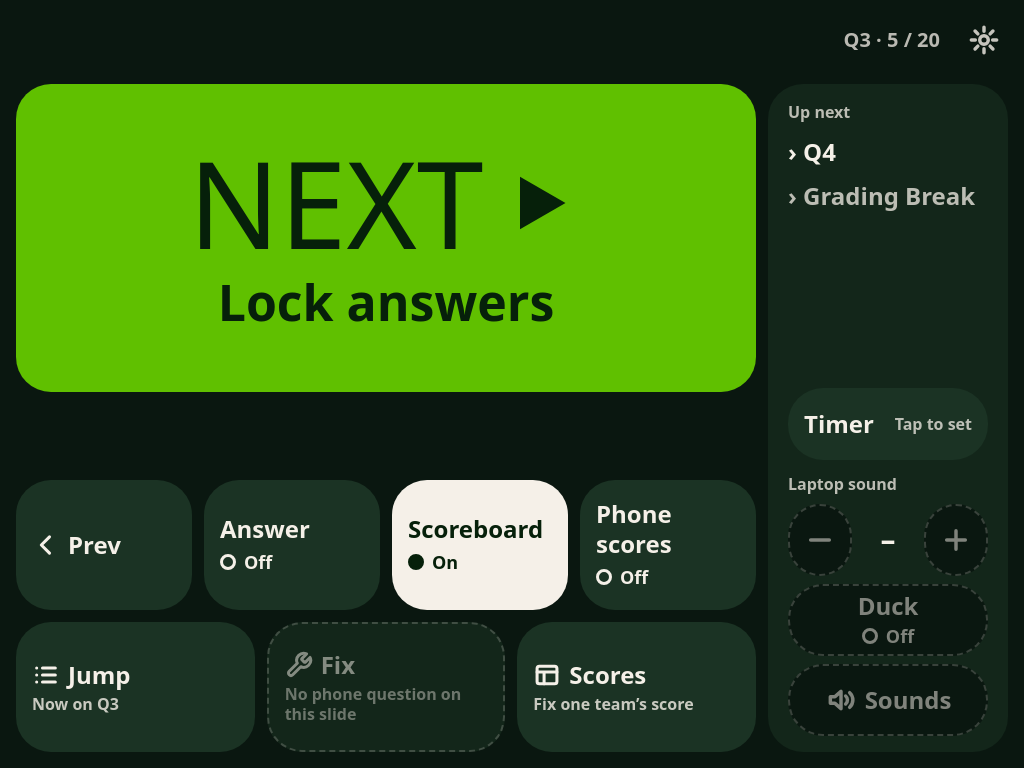
Test case: /remote audit fixes (phase 3) › the laptop reloads mid-drawer: once live again with no scores, the drawer asks again and the teams come back
The width and height of the screenshot is (1024, 768).
Click the button "Scores Fix one team’s score" at (637, 687), box top-left (517, 622), bottom-right (756, 752)
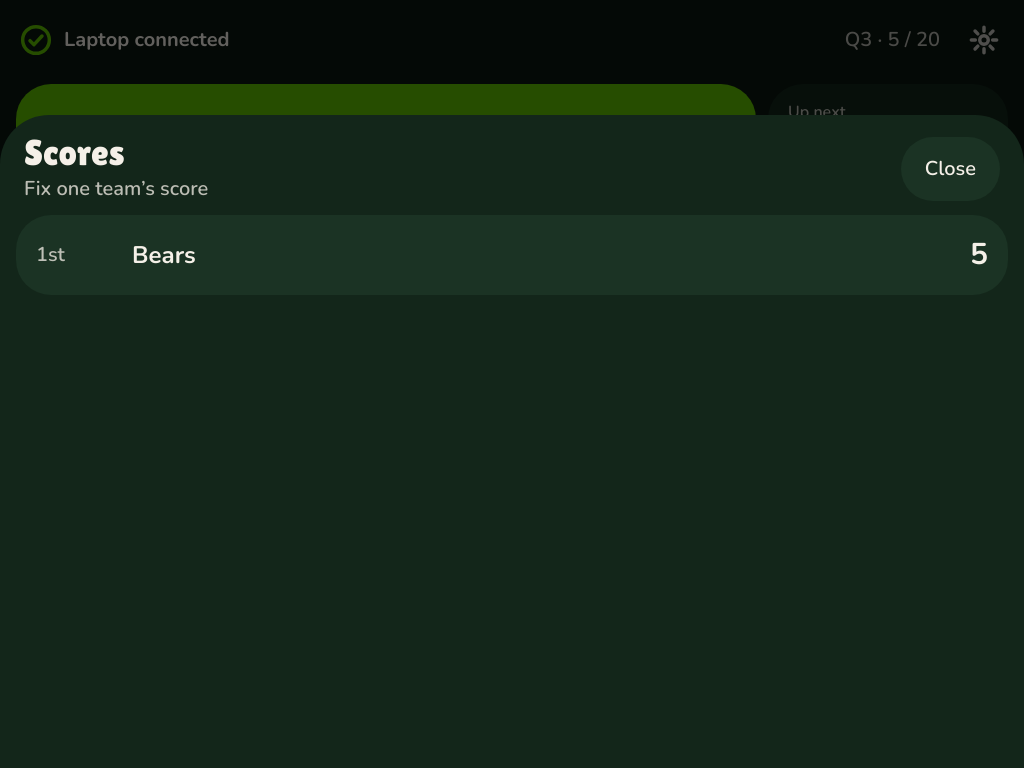
Expected: the button "1st Bears 5" is shown, top-left (16, 215), bottom-right (1008, 295)
